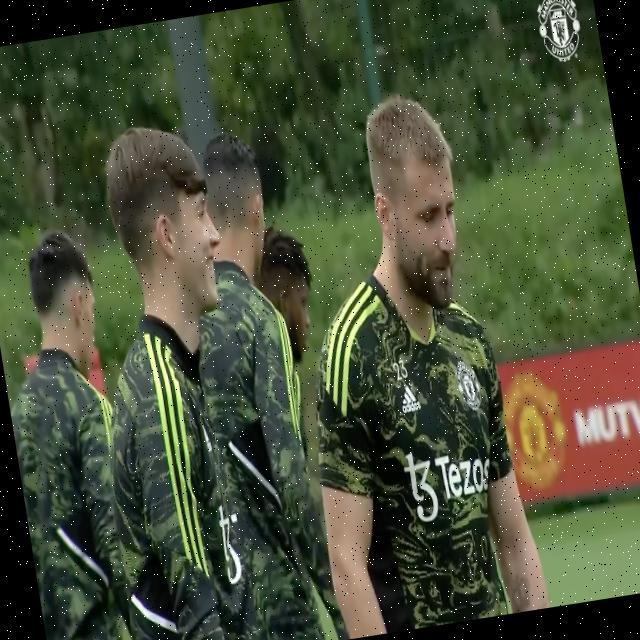Adidas: (398, 381, 422, 417)
